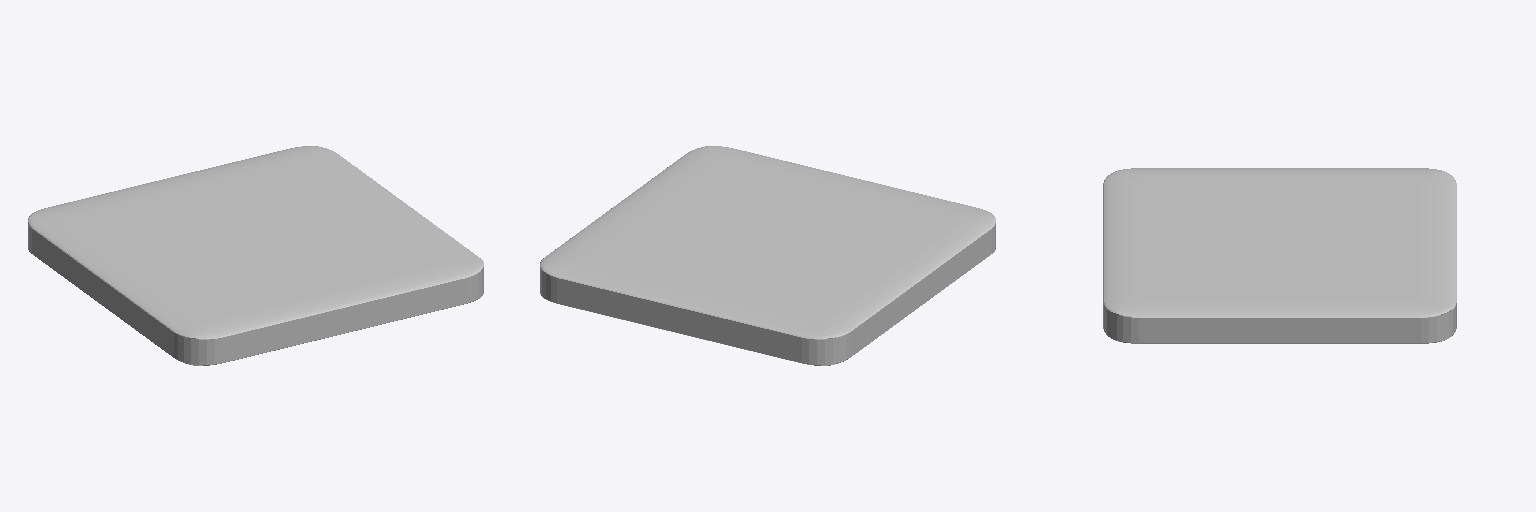
The model's file is MemoryTile.obj.
3 views of the same model, side by side, from view 1: azimuth 30°, elevation 25°; view 2: azimuth 150°, elevation 25°; view 3: azimuth 270°, elevation 25° (orthographic).
Bounding box in the file's own units: 2 × 0.2 × 2.